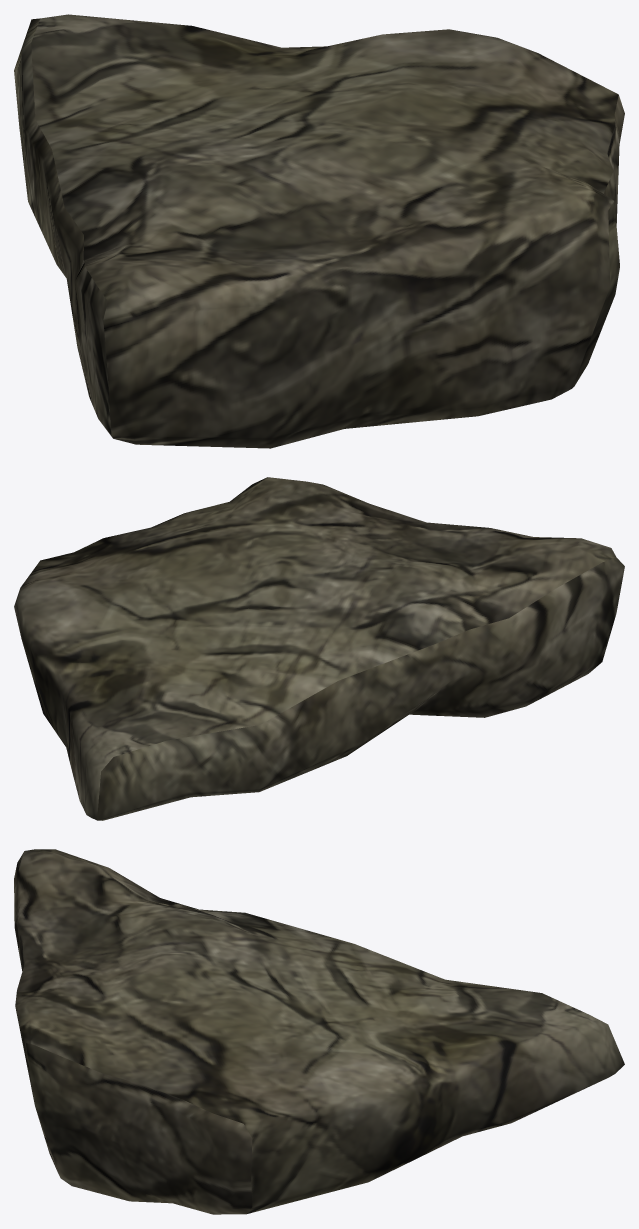
Rendered from MEP_Cliff_09.fbx.
The picture shows the model from 3 angles, top to bottom: view 1: azimuth 30°, elevation 25°; view 2: azimuth 150°, elevation 25°; view 3: azimuth 270°, elevation 25°; orthographic projection. The views are drawn at different scales.
Visible parts, largest first — view 1: MEP_Desert_Cliff_09; view 2: MEP_Desert_Cliff_09; view 3: MEP_Desert_Cliff_09.
Part boxes in pixels (bbox=[...]): MEP_Desert_Cliff_09: bbox=[14, 14, 624, 448]; MEP_Desert_Cliff_09: bbox=[14, 477, 624, 820]; MEP_Desert_Cliff_09: bbox=[14, 849, 624, 1214].
Size of what is drawn, in the model's own units: 177 by 61.51 by 194.
Materials: 1 (1 with a texture image).
